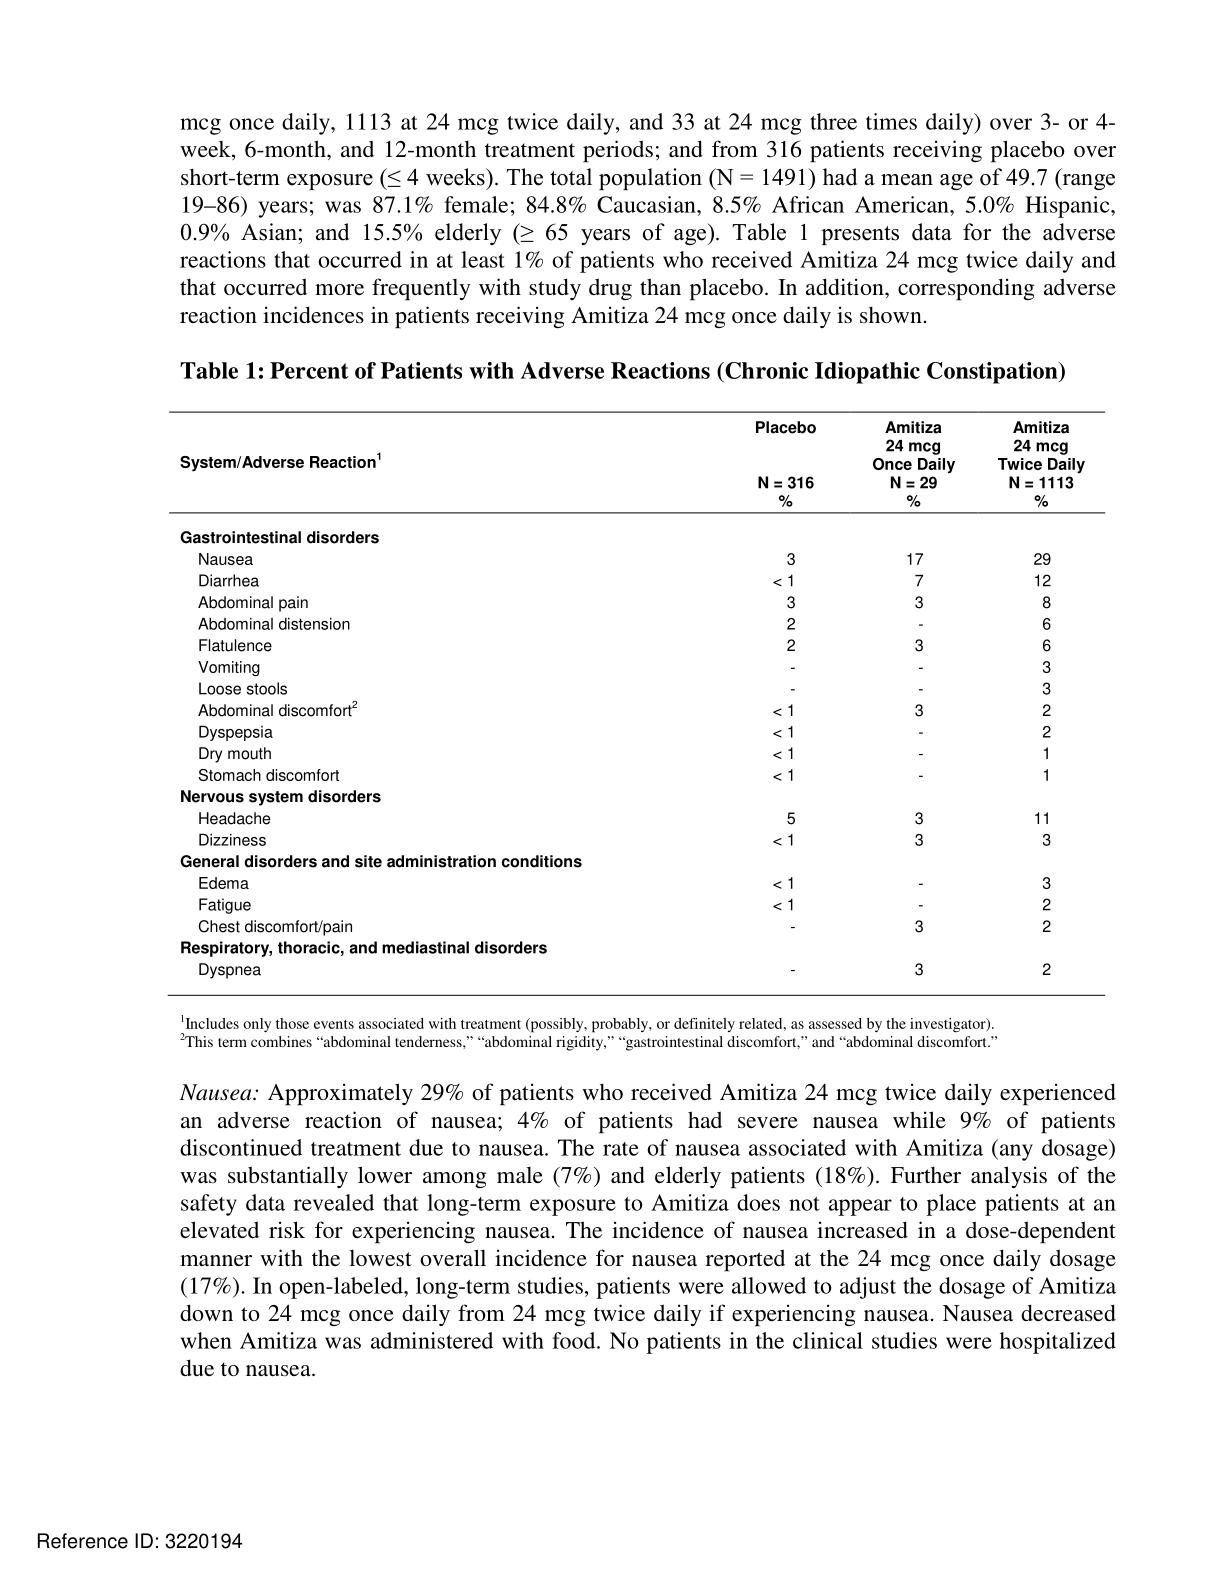partial_lined: (168, 409, 1110, 998)
